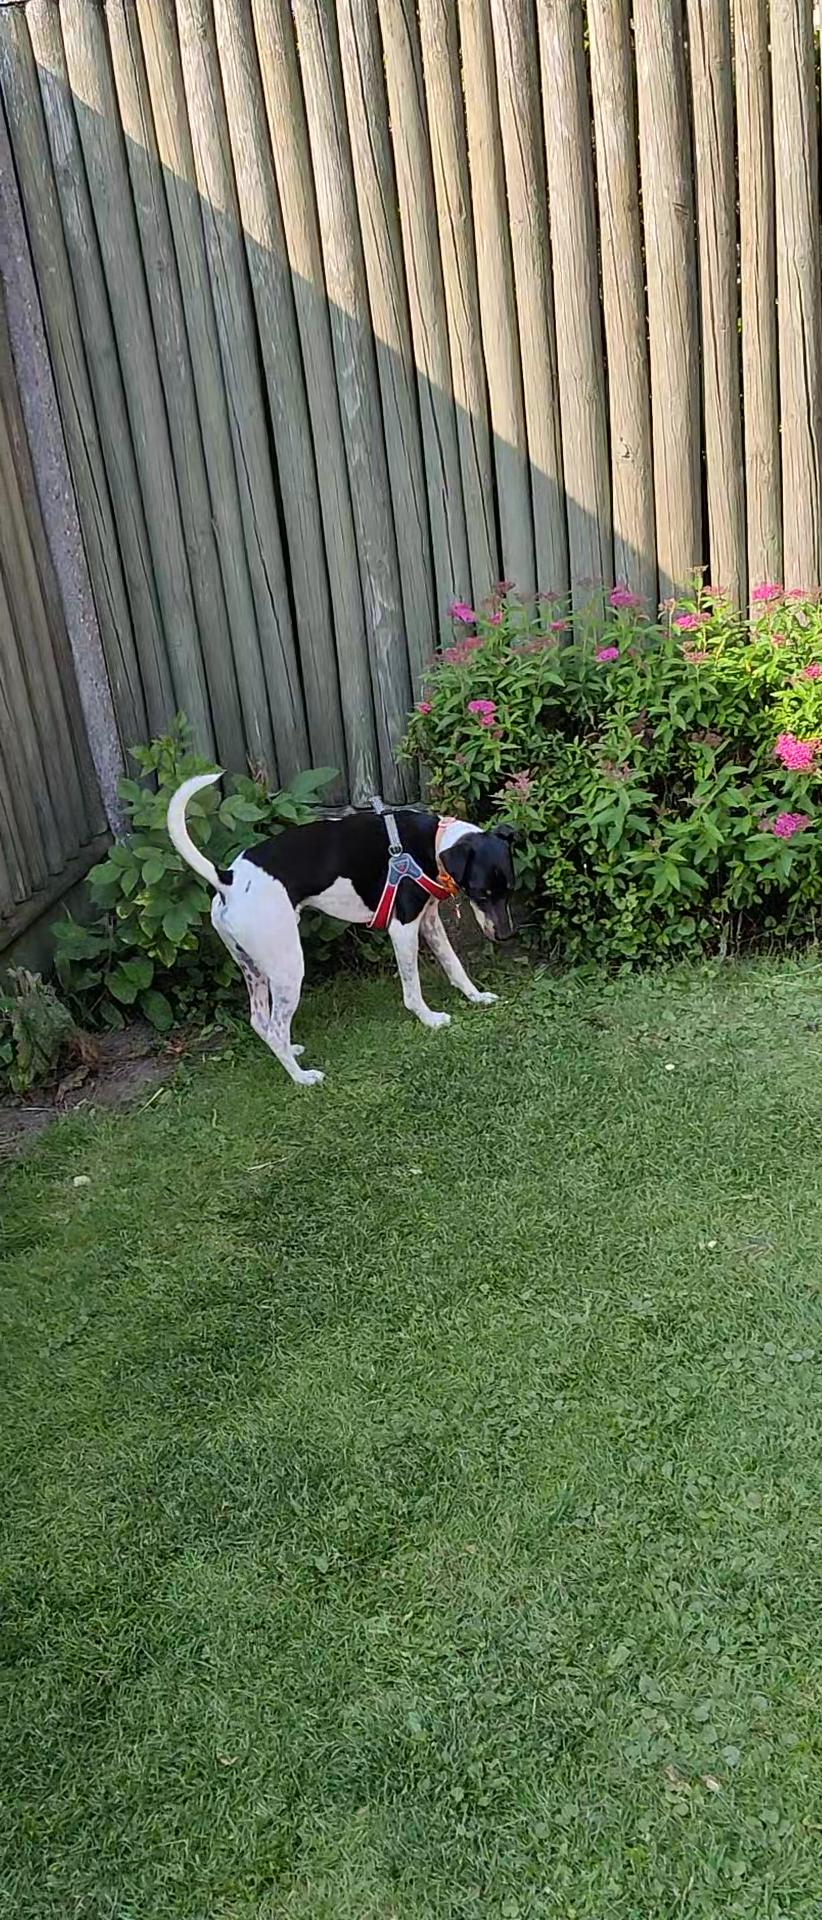Dog: (160, 764, 530, 1090)
